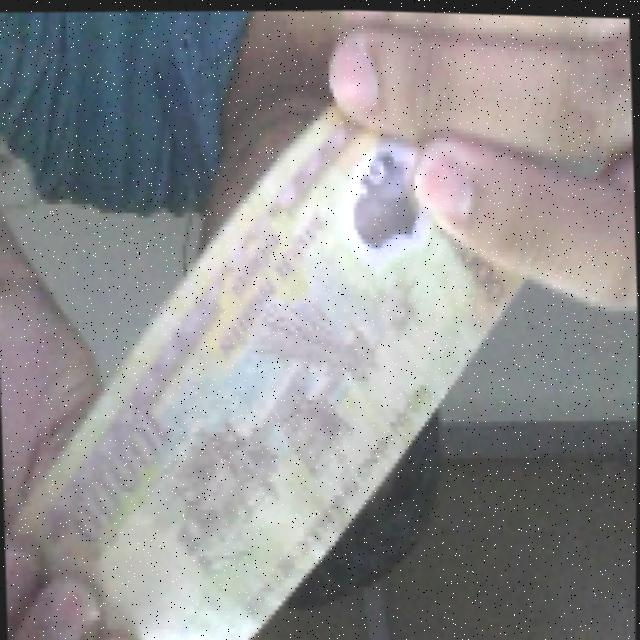10 000 VND: (0, 80, 544, 640)
